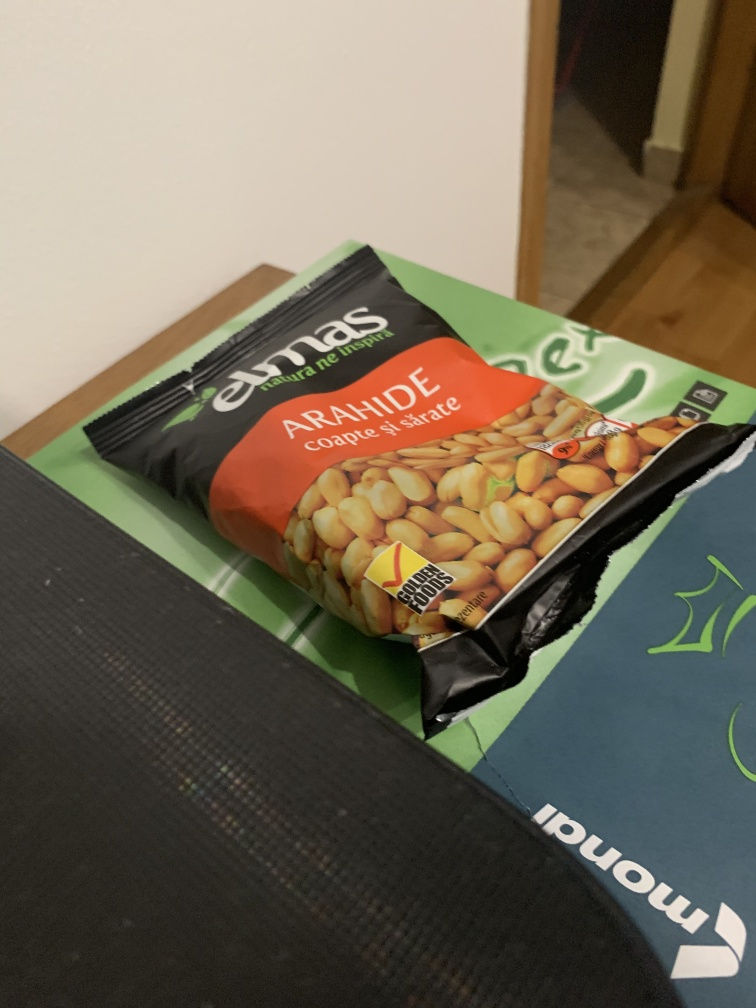peanuts: (75, 240, 755, 751)
